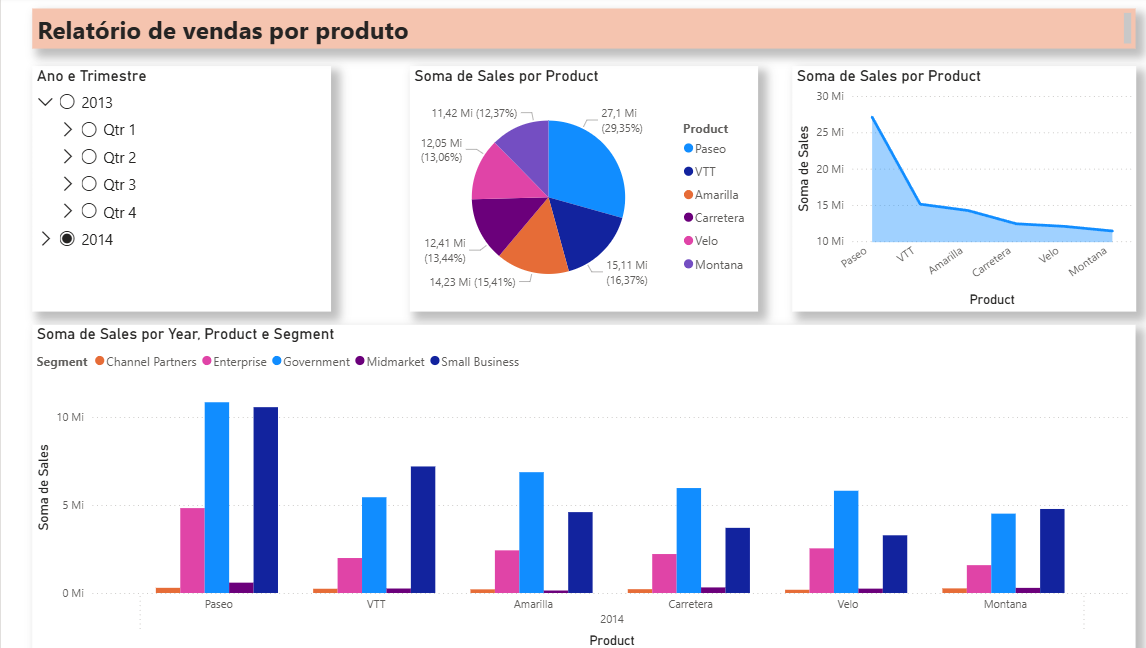

This screenshot's page, from the dashboard's own definition file:
{"tool":"powerbi","page":{"name":"Página 1","canvas":[1280,720],"ordinal":0},"visuals":[{"type":"pieChart","fields":{"Category":["financials.Product"],"Y":["Sum(financials.Sales)"]},"box":[449,77,382,269.4],"z":0},{"type":"listSlicer","fields":{"Values":["financials.Date.Variation.Hierarquia de datas.Ano","financials.Date.Variation.Hierarquia de datas.Trimestre","financials.Date.Variation.Hierarquia de datas.Mês","financials.Date.Variation.Hierarquia de datas.Dia"]},"box":[34.2,77,327.8,269.4],"z":1000},{"type":"stackedAreaChart","fields":{"Category":["financials.Product"],"Y":["Sum(financials.Sales)"]},"box":[868.1,77,377.7,269.4],"z":2000},{"type":"clusteredColumnChart","fields":{"Y":["Sum(financials.Sales)"],"Series":["financials.Segment"],"Category":["financials.Year","financials.Product"]},"box":[34.2,360.6,1211.6,359.2],"z":3000},{"type":"textbox","box":[34.2,14.3,1211.6,44.2],"z":4000}]}

Visuals, with their boxes in screenshot pixels (x1, y1, x2, y2), scaled from the page's 1280x720 canvas onto the 1146x648 screenshot:
pieChart - financials.Product x Sum(financials.Sales): l=402, t=69, r=744, b=312
listSlicer - financials.Date.Variation.Hierarquia de datas.Ano x financials.Date.Variation.Hierarquia de datas.Trimestre: l=31, t=69, r=324, b=312
stackedAreaChart - financials.Product x Sum(financials.Sales): l=777, t=69, r=1115, b=312
clusteredColumnChart - Sum(financials.Sales) x financials.Segment: l=31, t=325, r=1115, b=647
textbox: l=31, t=13, r=1115, b=53
